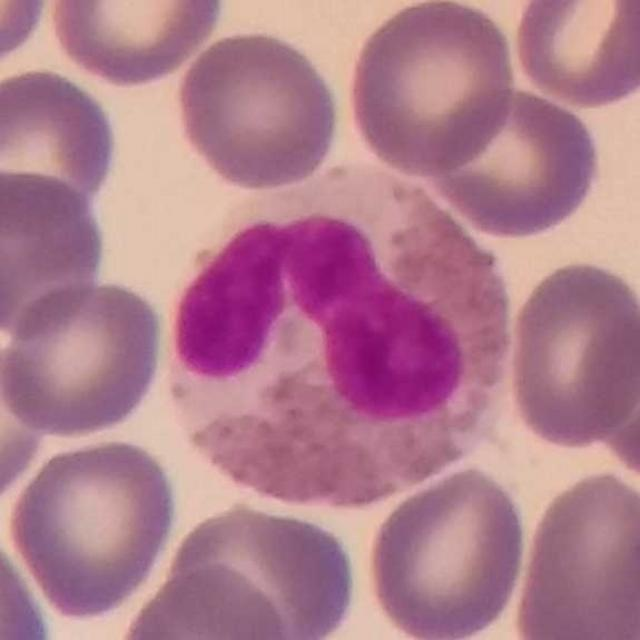Eosinophil: (156, 164, 516, 520)
RBC: (3, 432, 182, 621), (341, 0, 518, 177), (361, 462, 532, 640), (170, 24, 345, 195), (421, 84, 604, 240), (163, 497, 362, 640), (0, 276, 169, 440), (503, 254, 640, 454), (508, 465, 640, 639), (0, 62, 122, 225), (0, 164, 109, 340), (44, 0, 230, 88), (507, 5, 640, 115), (115, 561, 295, 640), (583, 303, 640, 491), (0, 334, 51, 514), (590, 505, 640, 640), (0, 524, 58, 640), (0, 0, 55, 77)
